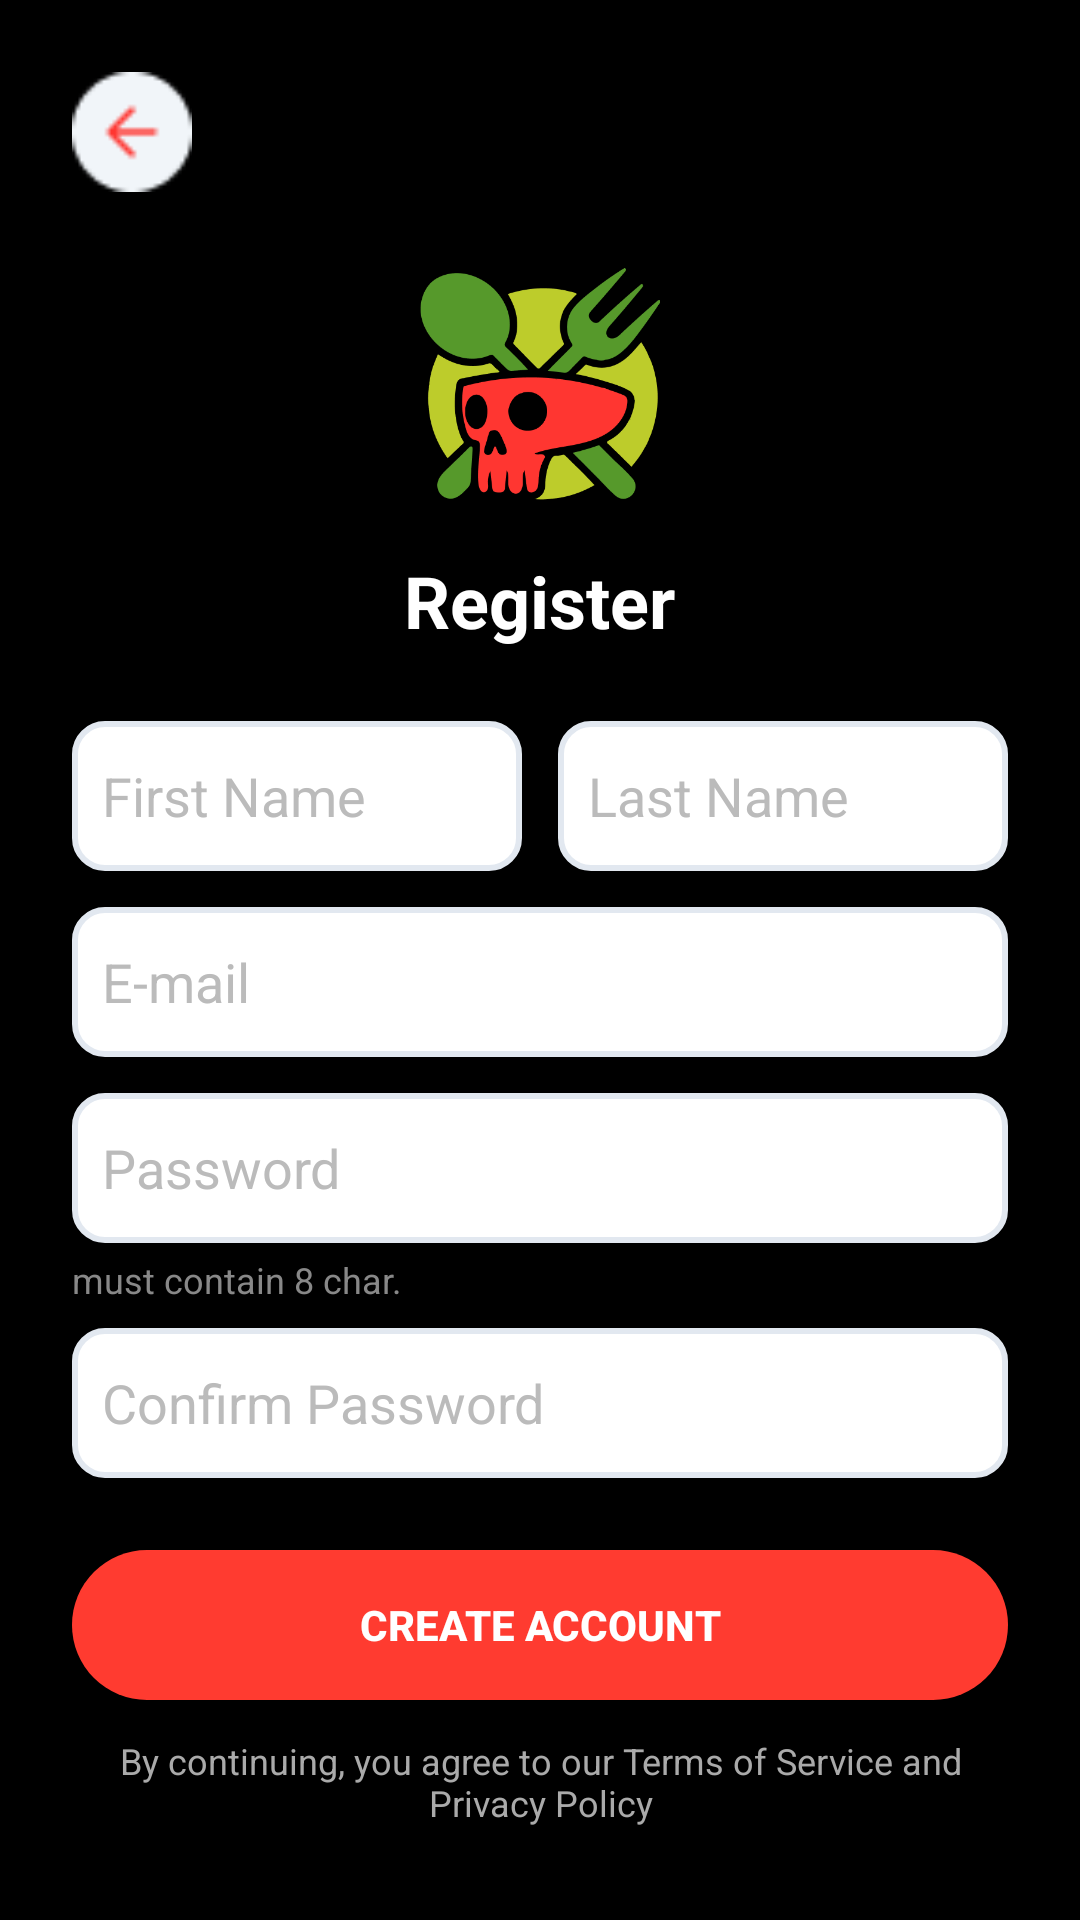

Where icons sit on this 1080w x 1920h app screen, as [x1=x1, y1=y1, x2=x2, y2=y2]:
back: [x1=72, y1=72, x2=192, y2=192]
